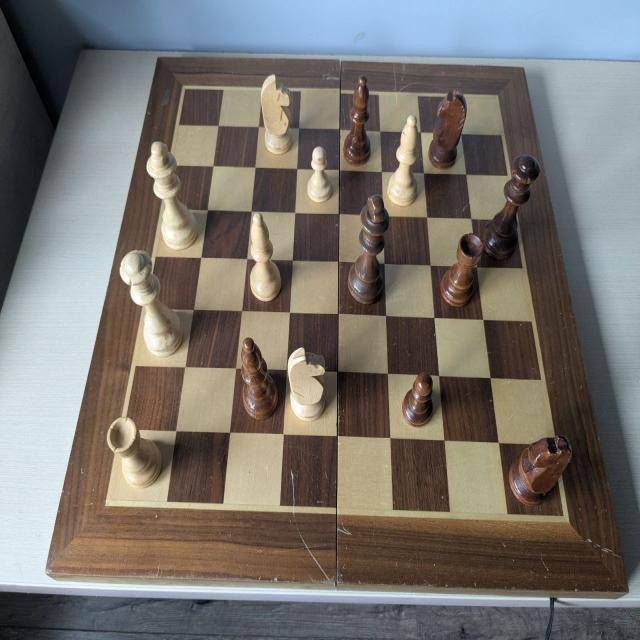black_bishop: (239, 336, 279, 420), (342, 75, 370, 166)
black_king: (348, 194, 386, 304)
black_knight: (508, 436, 572, 507), (429, 89, 467, 170)
black_pawn: (401, 372, 433, 427)
black_queen: (482, 154, 540, 263)
black_rook: (440, 231, 484, 307)
white_bishop: (248, 211, 281, 302), (388, 115, 420, 205)
white_king: (146, 140, 200, 251)
white_knight: (288, 346, 326, 421), (260, 74, 292, 154)
white_pawn: (306, 146, 331, 202)
white_queen: (118, 248, 183, 357)
white_rook: (106, 416, 160, 488)
